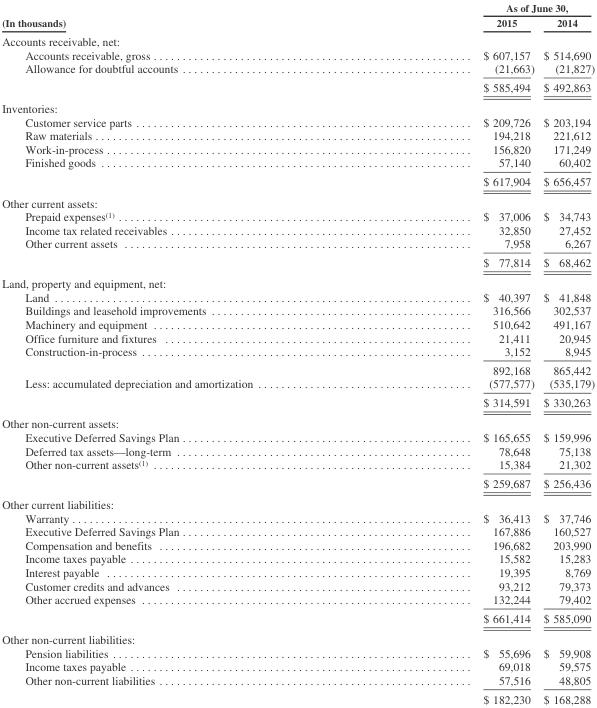table: (1, 1, 594, 705)
table column: (1, 1, 367, 705), (367, 1, 538, 705), (538, 1, 594, 705)
table column header: (1, 1, 594, 31)
table projected row header: (1, 97, 594, 115), (1, 191, 594, 209), (1, 272, 594, 290), (1, 412, 594, 430), (1, 493, 594, 511), (1, 628, 594, 646), (1, 31, 594, 47)
table row: (1, 77, 594, 97), (1, 171, 594, 191), (1, 252, 594, 272), (1, 392, 594, 412), (1, 473, 594, 493), (1, 608, 594, 628), (1, 97, 594, 115), (1, 191, 594, 209), (1, 272, 594, 290), (1, 412, 594, 430), (1, 493, 594, 511), (1, 628, 594, 646), (1, 14, 594, 31), (1, 31, 594, 47), (1, 61, 594, 77), (1, 155, 594, 171), (1, 236, 594, 252), (1, 344, 594, 360), (1, 360, 594, 376), (1, 376, 594, 392), (1, 457, 594, 473), (1, 592, 594, 608), (1, 673, 594, 689), (1, 689, 594, 705), (1, 47, 594, 61), (1, 128, 594, 142), (1, 222, 594, 236), (1, 303, 594, 317), (1, 330, 594, 344), (1, 443, 594, 457), (1, 524, 594, 538), (1, 551, 594, 565), (1, 578, 594, 592), (1, 659, 594, 673), (1, 1, 594, 14), (1, 115, 594, 128), (1, 142, 594, 155), (1, 209, 594, 222), (1, 290, 594, 303), (1, 317, 594, 330), (1, 430, 594, 443), (1, 511, 594, 524), (1, 538, 594, 551), (1, 565, 594, 578), (1, 646, 594, 659)
table spanning cell: (1, 1, 367, 31), (367, 1, 594, 14)
